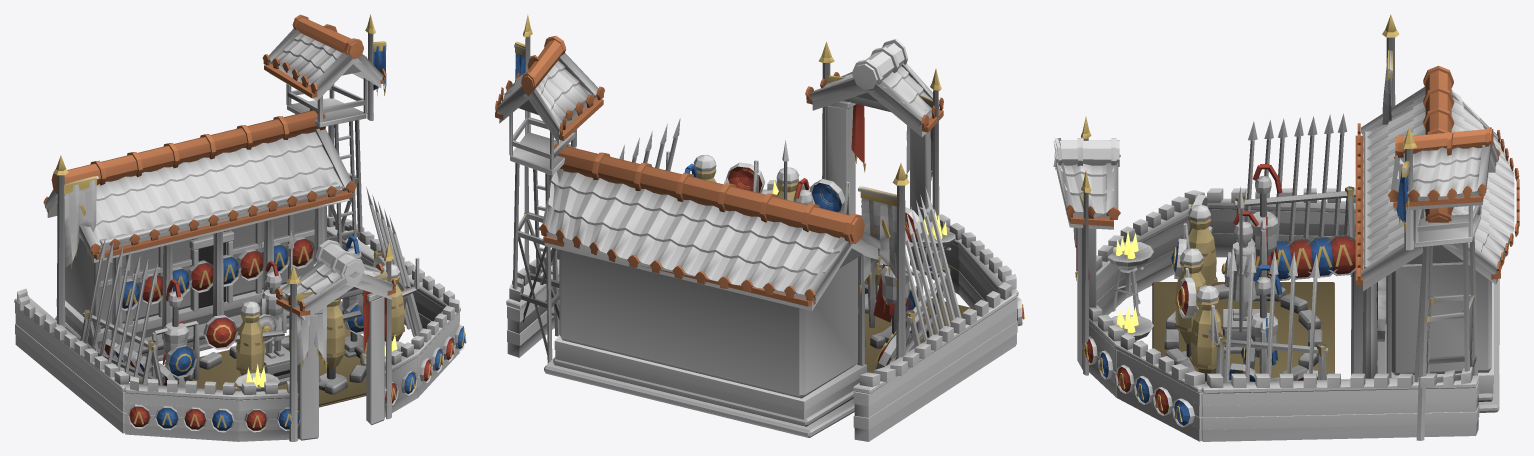
The model's file is spear-camp-l3.glb.
3 views of the same model, side by side, from view 1: azimuth 30°, elevation 25°; view 2: azimuth 150°, elevation 25°; view 3: azimuth 270°, elevation 25° (orthographic). The views are drawn at different scales.
Parts seen in each view (by area): view 1: spear-camp-l3; view 2: spear-camp-l3; view 3: spear-camp-l3.
Part boxes in pixels (<box>): spear-camp-l3: <box>14,14,466,441</box>; spear-camp-l3: <box>495,14,1024,441</box>; spear-camp-l3: <box>1053,14,1519,441</box>.
Bounding box in the file's own units: 1.55 × 1.15 × 1.53.
